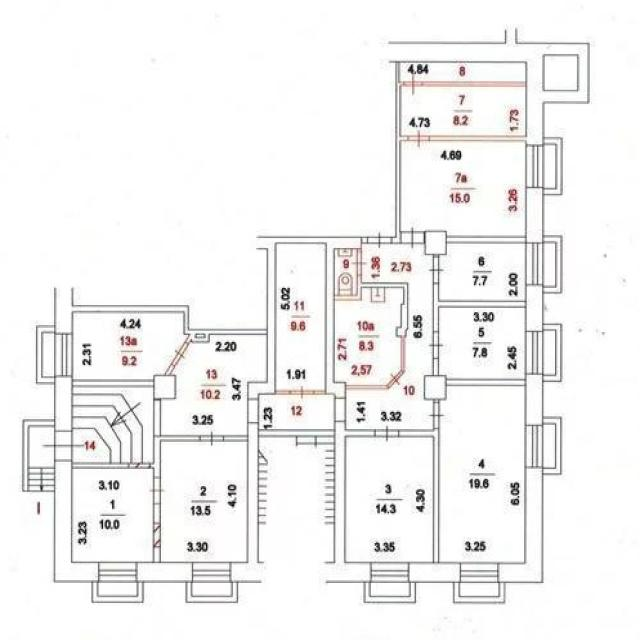Bathrooms: (335, 250, 358, 295)
Corridors: (346, 244, 433, 429), (161, 335, 267, 435), (276, 243, 324, 390), (401, 88, 525, 134), (259, 395, 334, 429), (400, 62, 525, 81), (543, 242, 556, 287), (543, 144, 556, 188), (543, 331, 556, 375), (544, 423, 556, 468), (42, 333, 54, 377), (194, 583, 232, 596), (460, 583, 498, 596), (99, 582, 136, 595), (372, 584, 409, 597)
Doors: (42, 430, 86, 462), (149, 475, 168, 505), (400, 226, 424, 249), (170, 340, 189, 368), (427, 332, 446, 359), (428, 254, 445, 284), (374, 424, 399, 444), (407, 128, 430, 149), (403, 72, 423, 96), (351, 248, 368, 276), (367, 231, 393, 249), (428, 402, 445, 429), (200, 430, 224, 447), (289, 385, 315, 400), (387, 370, 404, 389), (248, 399, 259, 423), (335, 399, 346, 422), (154, 399, 160, 436), (153, 523, 160, 547), (129, 463, 150, 468)
LBwalls: (388, 26, 590, 145), (323, 421, 371, 583), (324, 236, 362, 399), (230, 423, 265, 583), (498, 467, 544, 584), (54, 461, 98, 582), (247, 236, 276, 399), (137, 561, 193, 582), (409, 561, 460, 582), (54, 377, 73, 430), (525, 187, 543, 242), (53, 286, 74, 333), (525, 374, 544, 425), (526, 285, 543, 331), (154, 374, 177, 401), (423, 375, 447, 400), (424, 230, 447, 255)
Offices: (439, 386, 525, 562), (401, 141, 525, 236), (346, 438, 432, 562), (161, 442, 247, 561), (73, 312, 190, 379), (72, 470, 153, 561), (335, 288, 404, 384), (440, 308, 525, 378), (439, 244, 525, 300)
Stairs: (259, 437, 333, 562), (74, 388, 153, 463), (30, 427, 54, 492)
Walls: (72, 305, 267, 344), (334, 275, 409, 373), (398, 428, 440, 563), (433, 282, 526, 331), (391, 62, 408, 244), (22, 419, 54, 492), (149, 435, 200, 478), (543, 136, 563, 196), (543, 235, 563, 294), (186, 581, 239, 603), (453, 582, 505, 604), (543, 323, 562, 382), (543, 416, 562, 475), (364, 582, 416, 603), (92, 582, 144, 603), (36, 325, 54, 384), (422, 81, 525, 88), (73, 379, 153, 388), (447, 236, 525, 244), (429, 135, 525, 141), (447, 379, 525, 386), (259, 429, 334, 436), (72, 463, 129, 469), (276, 237, 327, 243), (346, 429, 374, 437), (223, 435, 248, 442), (346, 385, 389, 389), (153, 504, 161, 523), (164, 364, 175, 376), (432, 357, 439, 375), (154, 547, 161, 562), (275, 390, 290, 395), (314, 390, 326, 395), (361, 236, 367, 243)
Windows: (371, 562, 409, 584), (525, 145, 544, 187), (460, 562, 498, 583), (193, 562, 231, 583), (525, 242, 543, 286), (98, 562, 137, 582), (525, 425, 543, 468), (526, 331, 543, 376), (55, 334, 73, 376)
